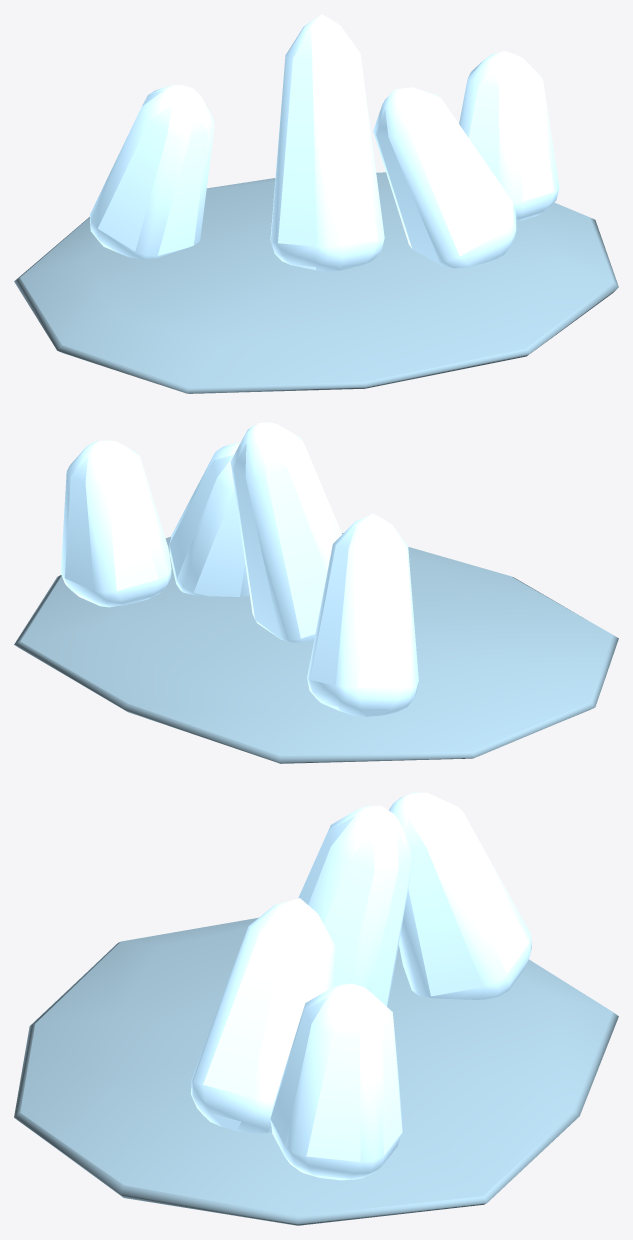
File: schmutz_eis_1.fbx
3 renders of one model, top to bottom at view 1: azimuth 30°, elevation 25°; view 2: azimuth 150°, elevation 25°; view 3: azimuth 270°, elevation 25°, orthographic. The views are drawn at different scales.
Parts seen in each view (by area): view 1: schmutz_eis_1_Koerper; view 2: schmutz_eis_1_Koerper; view 3: schmutz_eis_1_Koerper.
Part boxes in pixels (x1,y1,x2,y2): schmutz_eis_1_Koerper: (14, 14, 618, 393); schmutz_eis_1_Koerper: (14, 422, 618, 763); schmutz_eis_1_Koerper: (14, 792, 618, 1225).
Size of the model in its own units: 1.13 by 0.5317 by 0.9288.
